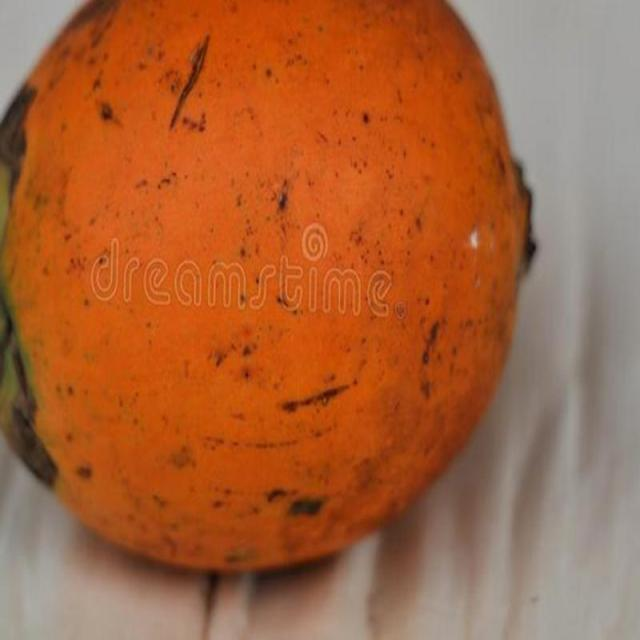good: (0, 0, 536, 581)
